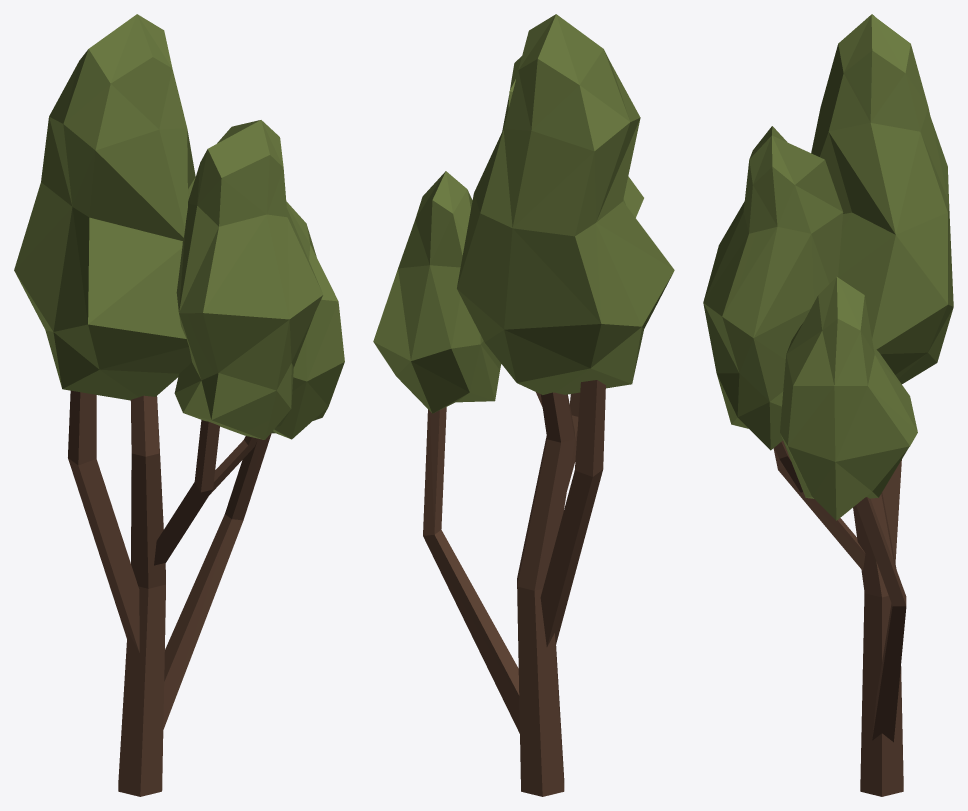
The model's file is tree7.glb.
The picture shows the model from 3 angles, left to right: view 1: azimuth 30°, elevation 25°; view 2: azimuth 150°, elevation 25°; view 3: azimuth 270°, elevation 25°; orthographic projection.
Parts seen in each view (by area): view 1: tree17; view 2: tree17; view 3: tree17.
Boxes of the visible parts, x1,y1,x2,y2 form: tree17: (14,14,344,796); tree17: (373,14,674,796); tree17: (703,14,953,796).
Size of the model in its own units: 1.76 by 5.09 by 1.5.
Materials: 1 (1 with a texture image).
